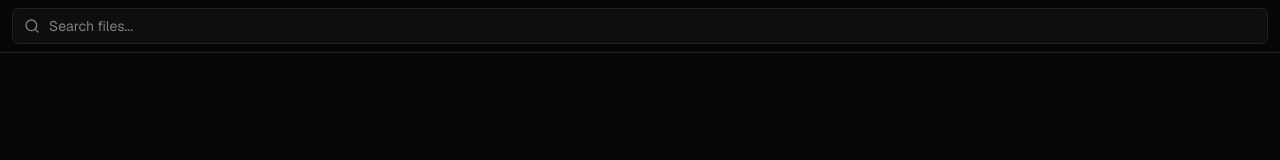
Test: FileNameSearch › Loading state › should show loading state when fetching files
The width and height of the screenshot is (1280, 160).
In the field with placeholder "Search files...": (640, 26) 12,8 -> 1268,44, type "test"
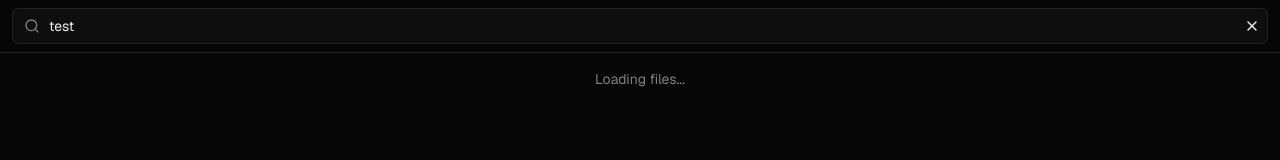
Expected: the text "Loading files..." is shown, 595,70 -> 685,88
